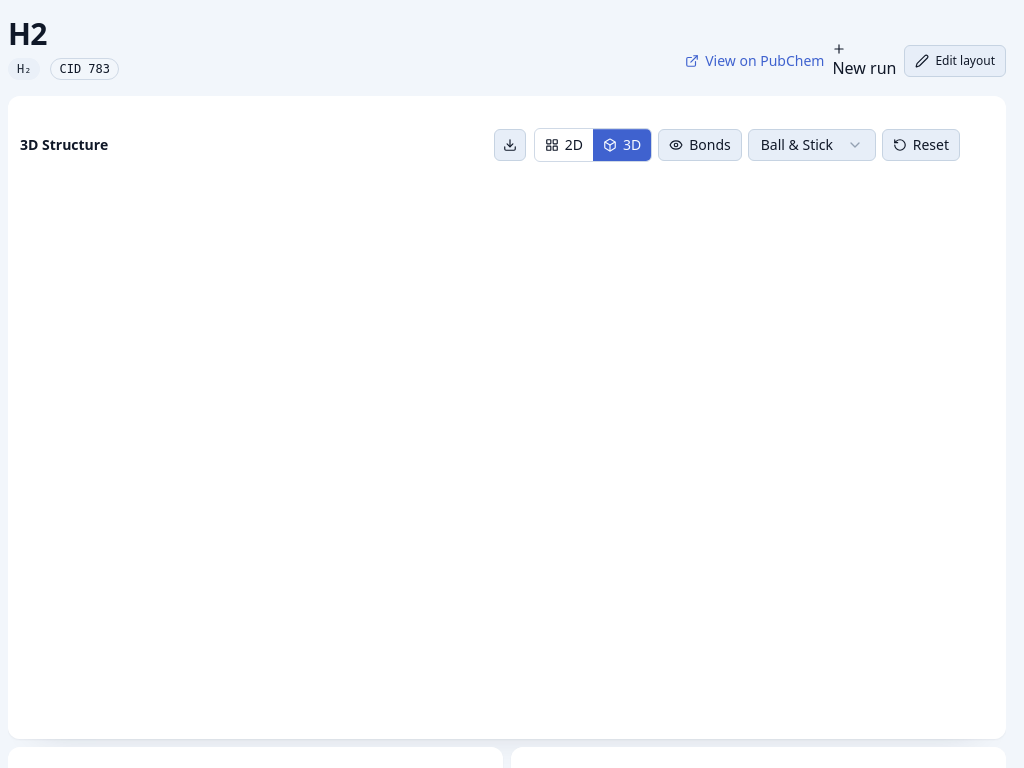
MoleculeDetail — viewer controls › toggles bond display when bond button is clicked
The image size is (1024, 768).
Click the button with aria-label "hide bonds" at (700, 145), box [658,129,742,161]
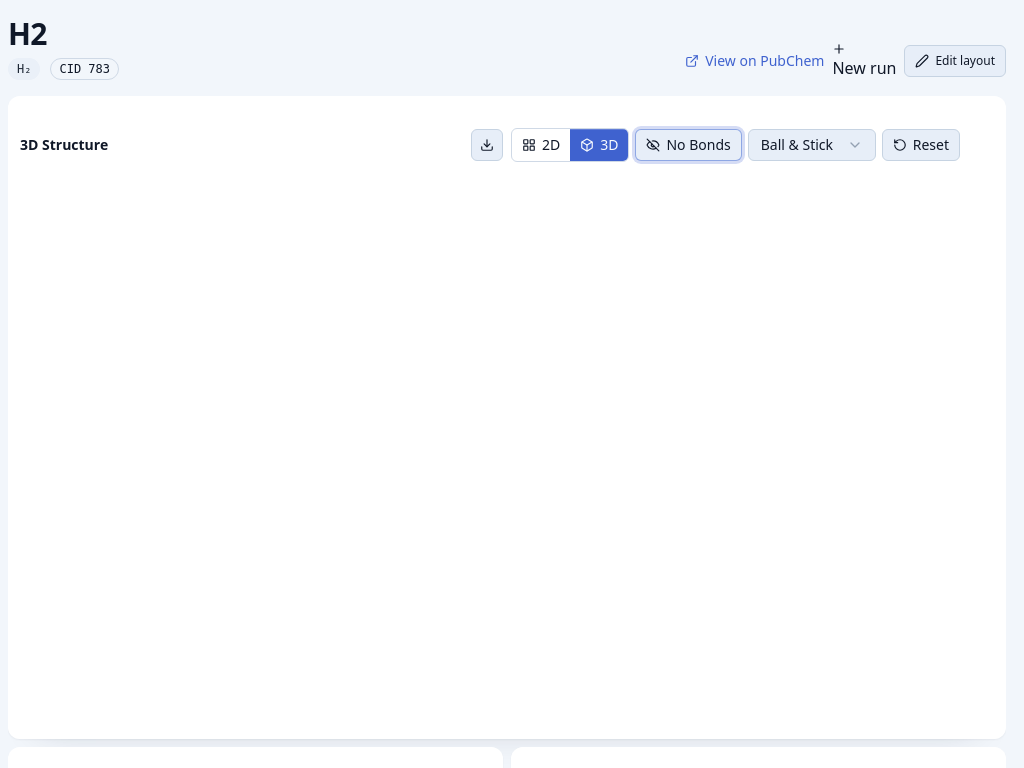
Expected: the button with aria-label "show bonds" is shown, [635,129,742,161]
